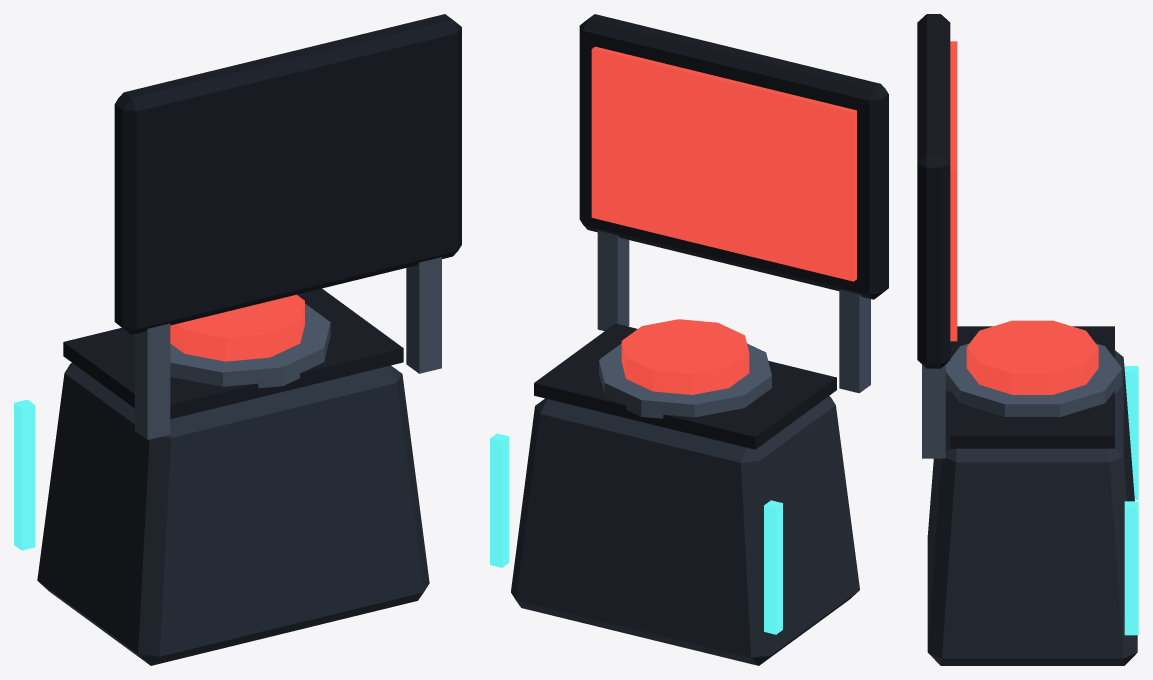
Rendered from Mono_KillSwitch.fbx.
3 views of the same model, side by side, from view 1: azimuth 30°, elevation 25°; view 2: azimuth 150°, elevation 25°; view 3: azimuth 270°, elevation 25° (orthographic). The views are drawn at different scales.
Visible parts, largest first — view 1: Mono_KillSwitch; view 2: Mono_KillSwitch; view 3: Mono_KillSwitch.
Boxes of the visible parts, <box> form: Mono_KillSwitch: <box>14,14,461,665</box>; Mono_KillSwitch: <box>490,14,888,665</box>; Mono_KillSwitch: <box>917,14,1138,665</box>.
Size of the model in its own units: 1.5 by 0.94 by 2.45.
